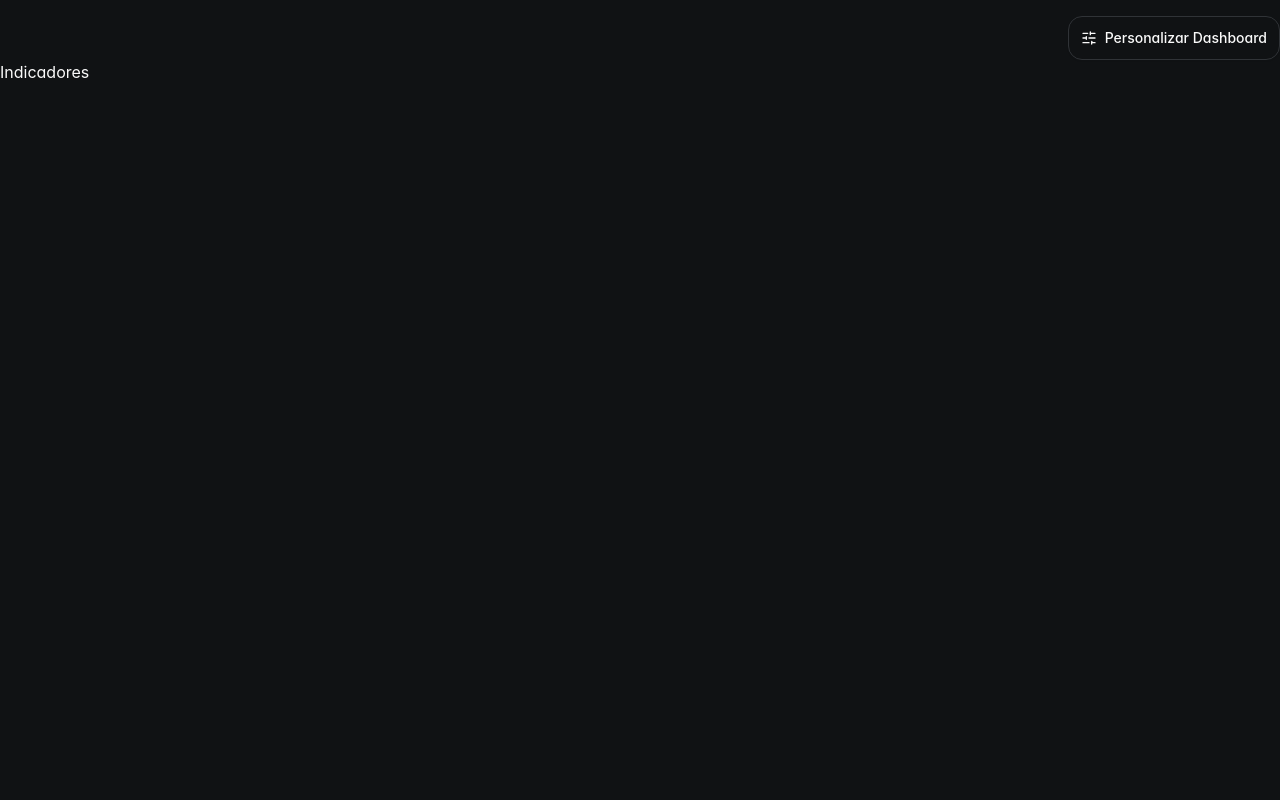
Test case: restore is explicit and leaves another account untouched
This screenshot has width=1280, height=800.
Step 1. Click the button "Personalizar Dashboard" → (1174,38), box [1068,16,1279,60]
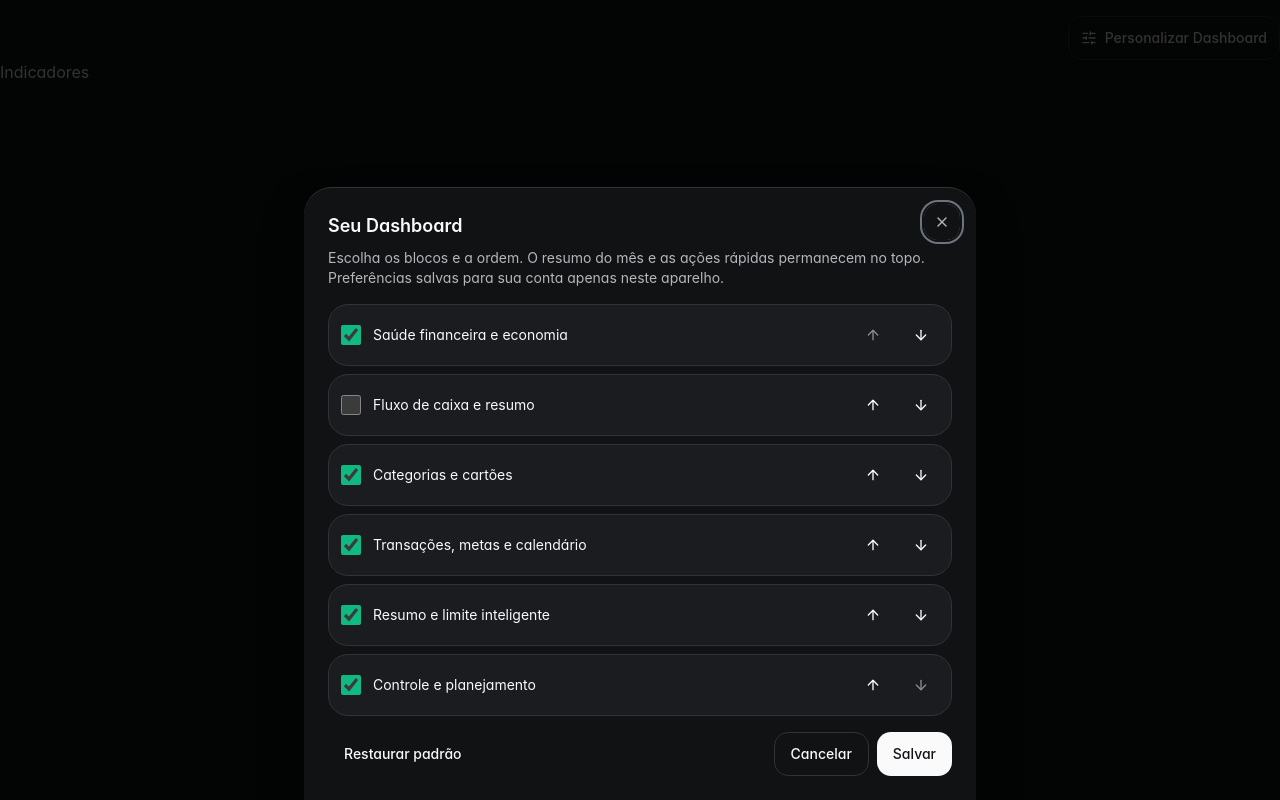
Step 2. Click the button "Restaurar padrão" → (403,754), box [328,732,478,776]
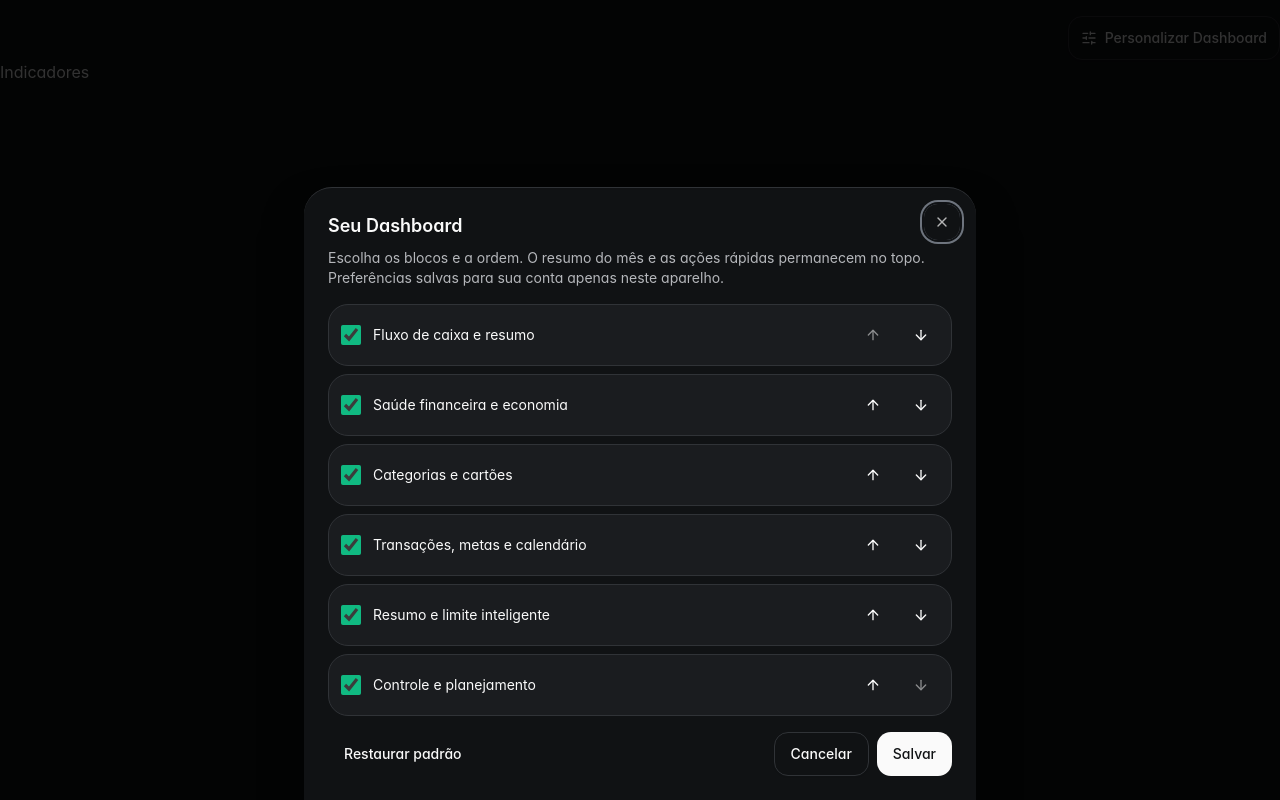
Step 3. Click the button "Salvar" → (914,754), box [877,732,952,776]
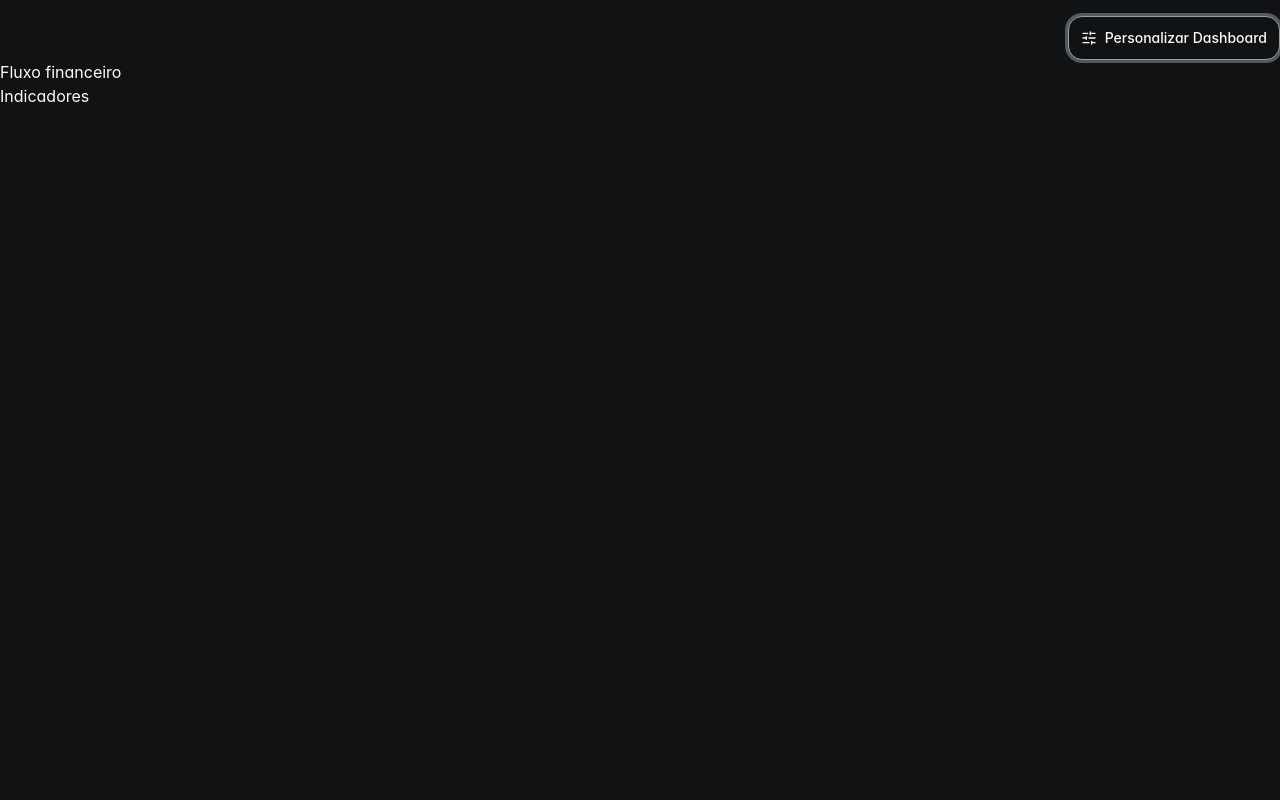
expect the text "Fluxo financeiro" is shown: met, box [0,62,122,82]
